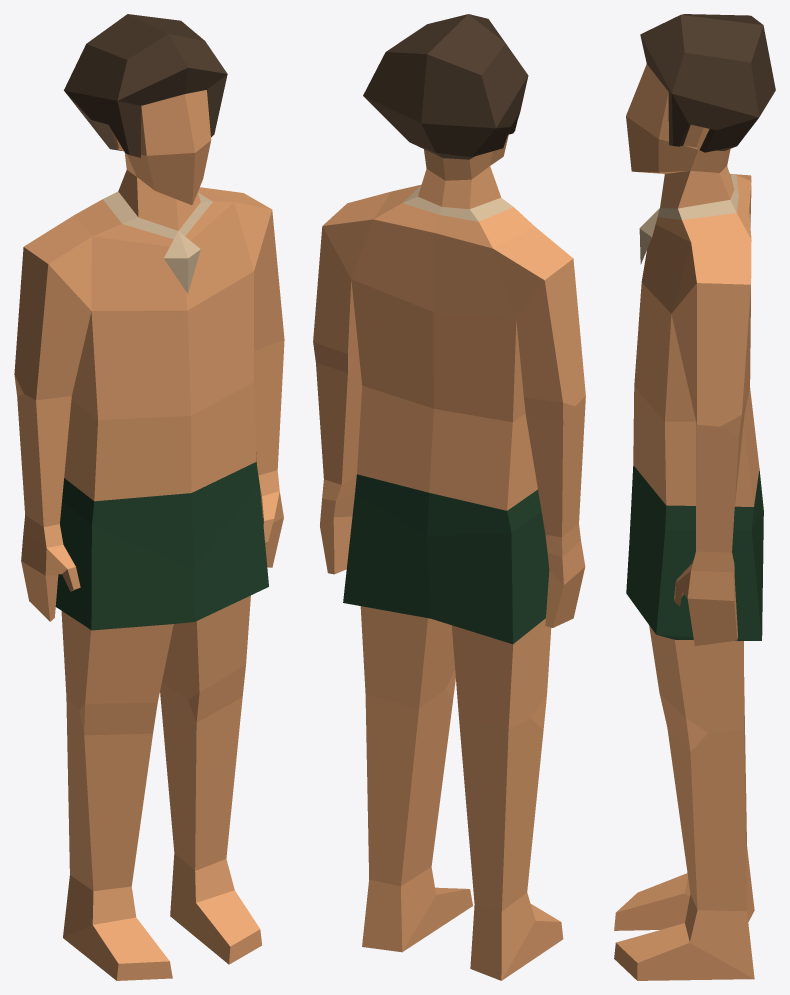
File: man-beach.glb
3 renders of one model, left to right at view 1: azimuth 30°, elevation 25°; view 2: azimuth 150°, elevation 25°; view 3: azimuth 270°, elevation 25°, orthographic.
Parts seen in each view (by area): view 1: man-beach; view 2: man-beach; view 3: man-beach.
Boxes of the visible parts, x1,y1,x2,y2 form: man-beach: (14,14,284,980); man-beach: (313,14,585,980); man-beach: (614,14,775,980).
Size of the model in its own units: 0.5348 by 1.87 by 0.2945.
Materials: 1 (1 with a texture image).
